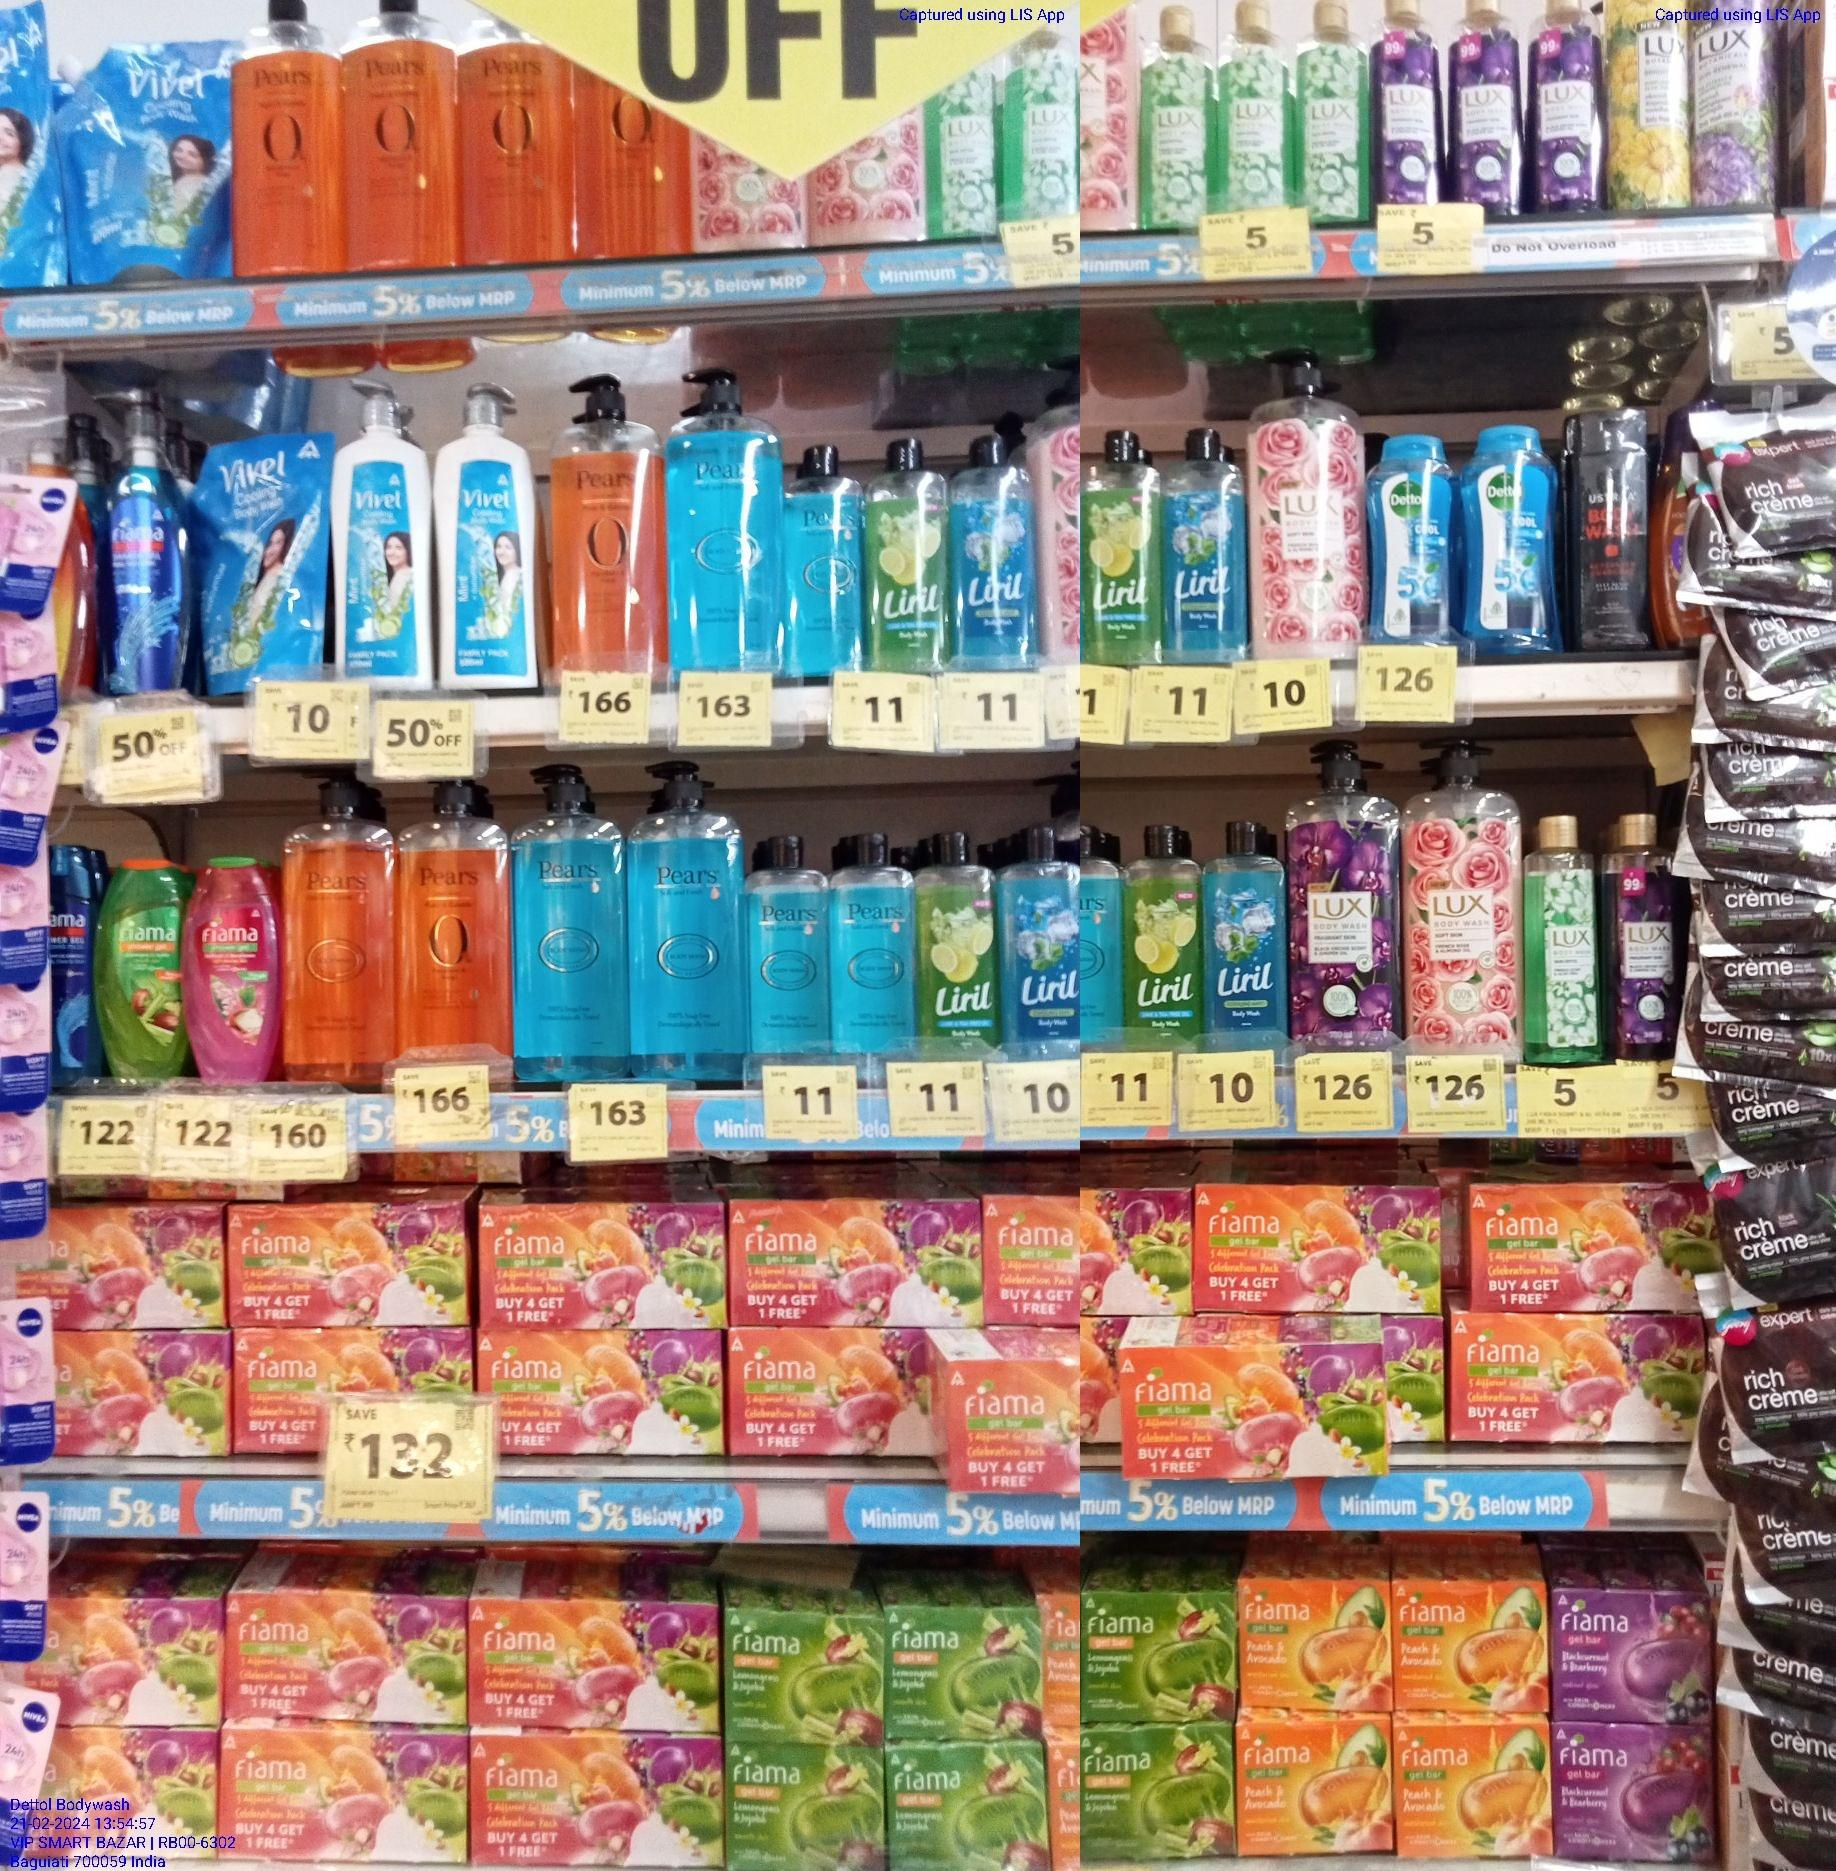Dettol_Bodywash_Cool: (1459, 422, 1559, 657), (1364, 430, 1458, 646)
Fiama_Shower_Gel_Lemongrass_and_Jojoba_250ML: (91, 856, 182, 1079)
Fiama_Shower_Gel_Patchouli_and_Macadamia_250ML: (183, 854, 277, 1081)
Liril_Cooling_Mint_Body_Wash_250ML: (1158, 425, 1246, 664), (948, 434, 1034, 671), (1199, 817, 1285, 1051), (1000, 829, 1079, 1041)
Liril_Lime_and_Tea_Tree_Oil_Body_Wash_250ML: (861, 437, 948, 672), (1079, 425, 1163, 667), (915, 832, 999, 1051), (1121, 820, 1200, 1049)
Lux_Black_Orchid_Scent_and_Juniper_Oil_Body_Wash_245ML: (1601, 812, 1675, 1062), (1448, 0, 1522, 224), (1528, 0, 1599, 215), (1369, 0, 1441, 203)
Lux_Body_Wash_Skin_Detox_Freesia_Scent_and_Alove_Vera_245ML: (1522, 814, 1602, 1064), (1295, 0, 1369, 229), (1140, 0, 1212, 227), (1214, 0, 1290, 212)
Pears_Pure_Glycerin_and_Mint_Extracts_Body_Wash_250ML: (829, 832, 916, 1052), (780, 442, 861, 676), (745, 834, 827, 1052)
